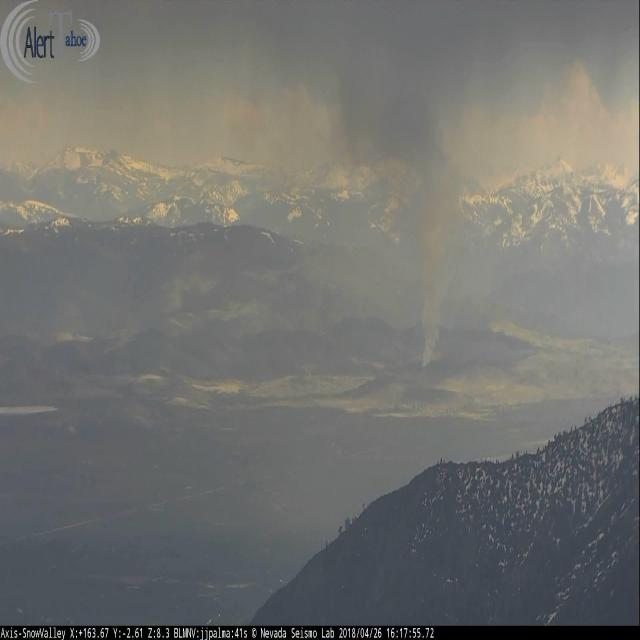smoke: (417, 162, 463, 373)
